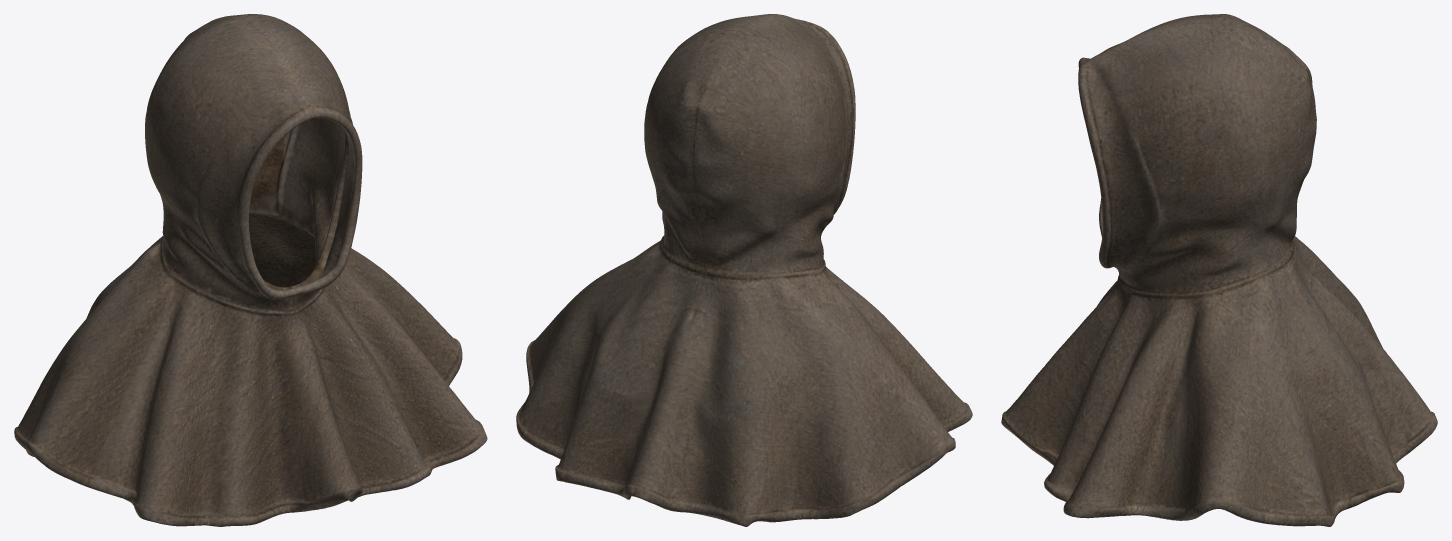
File: hood.glb
3 renders of one model, left to right at view 1: azimuth 30°, elevation 25°; view 2: azimuth 150°, elevation 25°; view 3: azimuth 270°, elevation 25°, orthographic. The views are drawn at different scales.
Parts seen in each view (by area): view 1: geometry_0; view 2: geometry_0; view 3: geometry_0.
Part boxes in pixels (x1,y1,x2,y2): geometry_0: (14,14,487,526); geometry_0: (516,14,972,526); geometry_0: (1001,14,1437,526).
Size of the model in its own units: 0.9988 by 0.9547 by 0.8737.
1 material, 1 textured.
